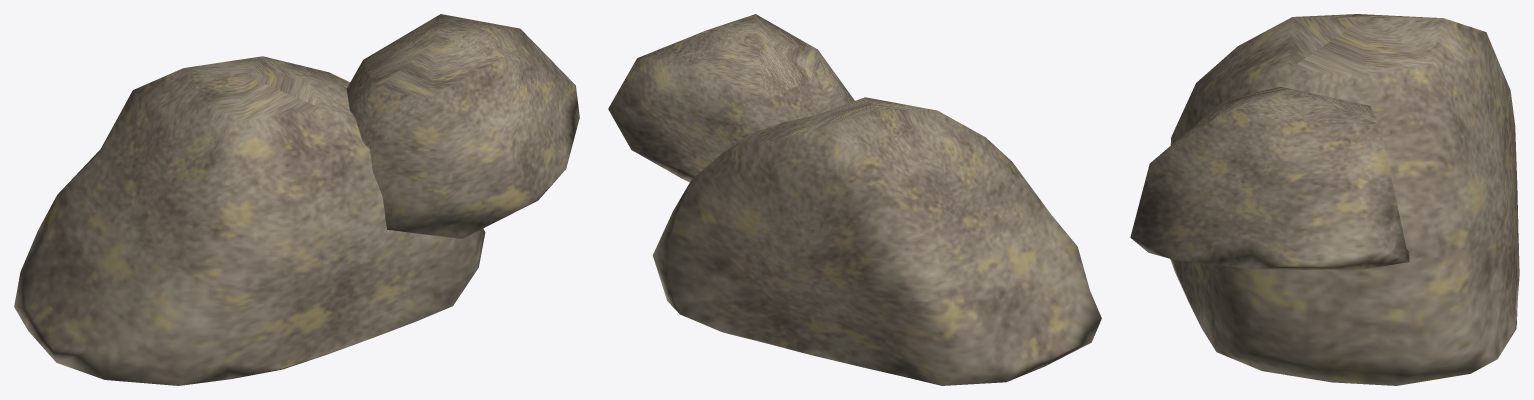
The model's file is rock_savanna_kopje_a.glb.
3 views of the same model, side by side, from view 1: azimuth 30°, elevation 25°; view 2: azimuth 150°, elevation 25°; view 3: azimuth 270°, elevation 25° (orthographic). The views are drawn at different scales.
Parts seen in each view (by area): view 1: rock_savanna_kopje_a; view 2: rock_savanna_kopje_a; view 3: rock_savanna_kopje_a.
Part boxes in pixels (x1,y1,x2,y2): rock_savanna_kopje_a: (14,14,579,385); rock_savanna_kopje_a: (608,14,1101,385); rock_savanna_kopje_a: (1130,14,1519,385).
Size of the model in its own units: 3.42 by 1.5 by 1.95.
1 material, 1 textured.
